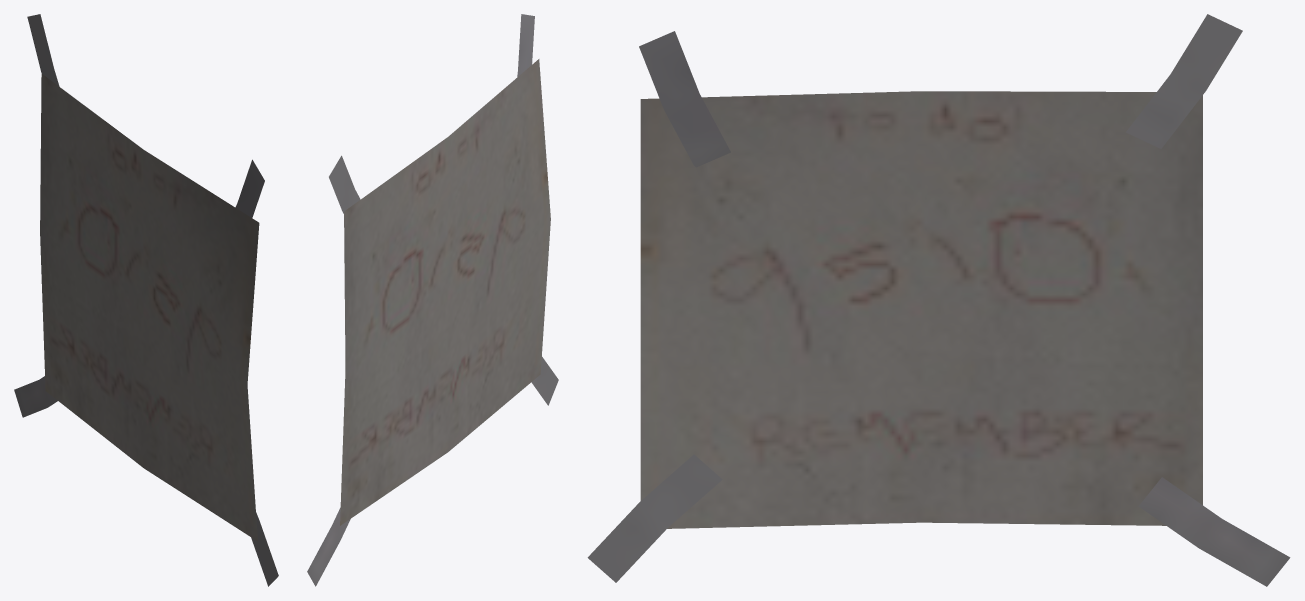
The model's file is ToDo.FBX.
3 renders of one model, left to right at view 1: azimuth 30°, elevation 25°; view 2: azimuth 150°, elevation 25°; view 3: azimuth 270°, elevation 25°, orthographic. The views are drawn at different scales.
Parts seen in each view (by area): view 1: ToDo; view 2: ToDo; view 3: ToDo.
Part boxes in pixels (box(x1,y1,x2,y2)): ToDo: box(14, 14, 278, 586); ToDo: box(307, 14, 558, 586); ToDo: box(587, 14, 1290, 586).
Size of the model in its own units: 0.4197 by 9.72 by 10.87.
